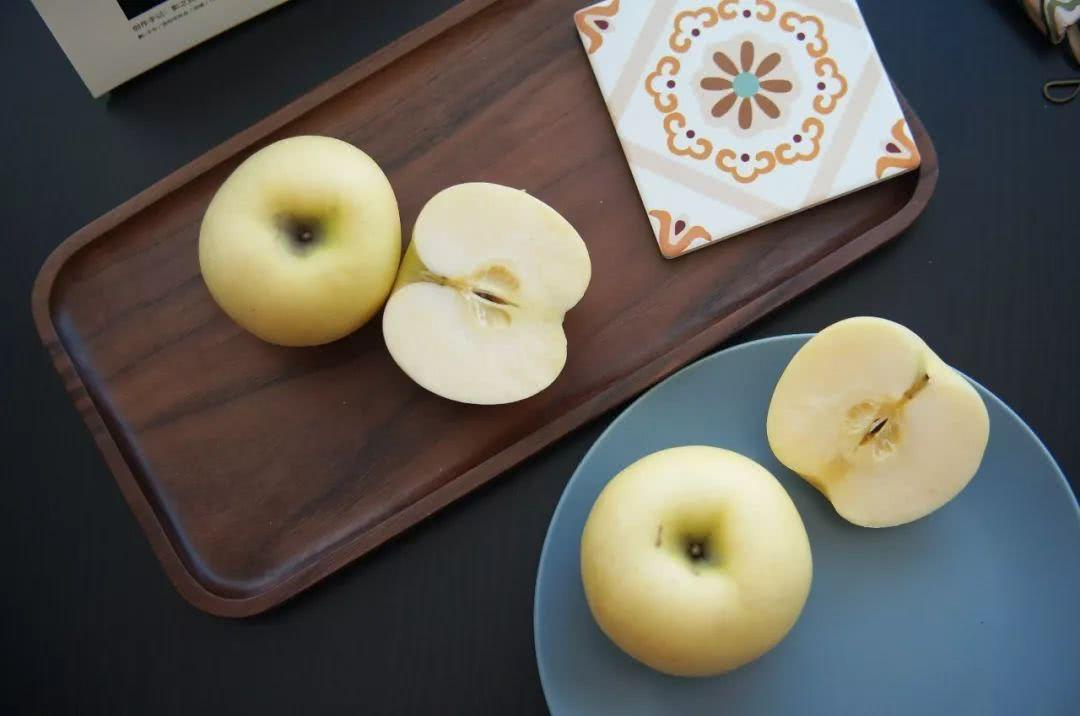apple: (579, 444, 812, 680), (767, 317, 991, 535), (382, 178, 592, 405), (196, 134, 403, 347)
